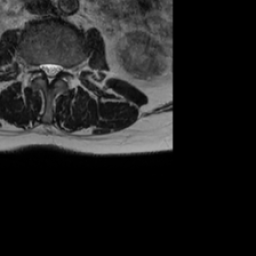CCS_normal: (45, 56, 53, 88)
LFS_stenosis: (63, 58, 71, 80)
LLS_normal: (53, 57, 61, 81)
RFS_stenosis: (31, 58, 39, 80)
RLS_stenosis: (39, 57, 45, 79)
